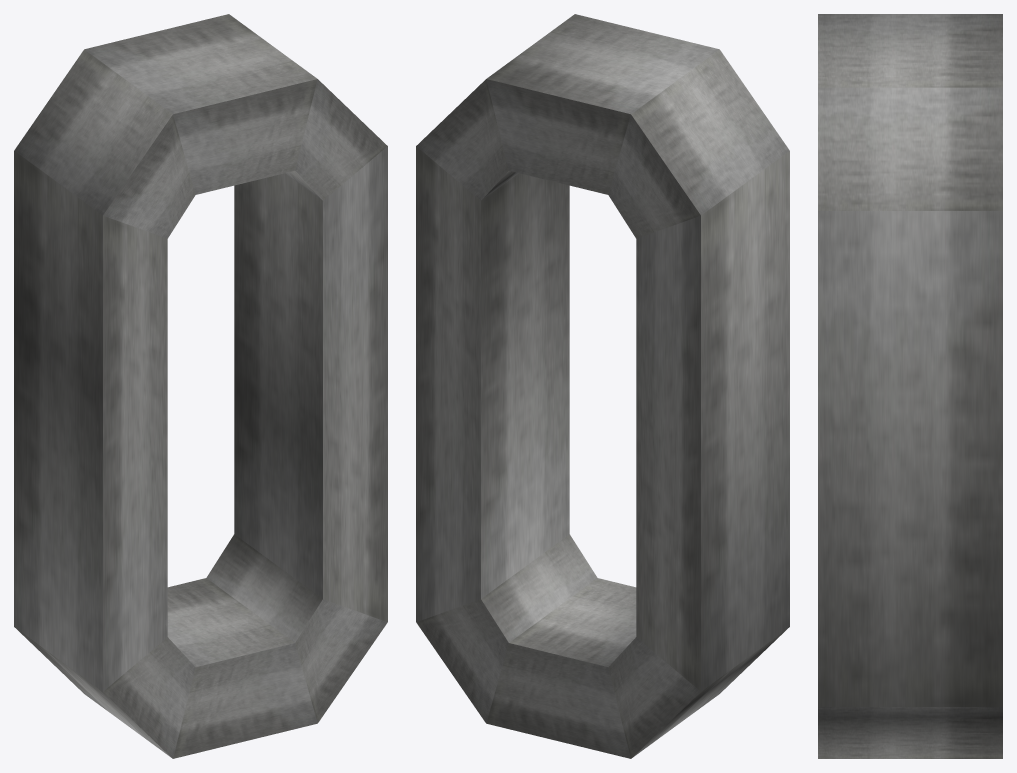
The model's file is chain 1.fbx.
3 renders of one model, left to right at view 1: azimuth 30°, elevation 25°; view 2: azimuth 150°, elevation 25°; view 3: azimuth 270°, elevation 25°, orthographic. The views are drawn at different scales.
Visible parts, largest first — view 1: chain; view 2: chain; view 3: chain.
Boxes of the visible parts, x1,y1,x2,y2 form: chain: (14,14,387,758); chain: (416,14,789,758); chain: (818,14,1002,758).
Bounding box in the file's own units: 9.32 × 20.14 × 5.03.
